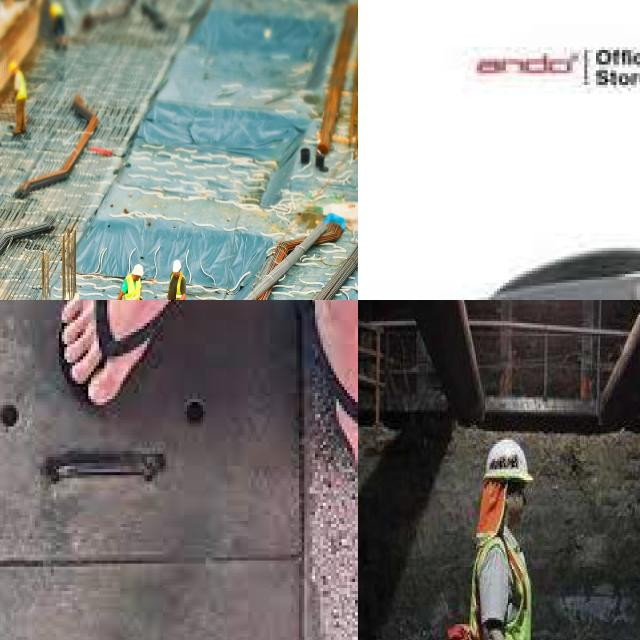Sandals: (0, 300, 358, 524), (358, 183, 640, 300)
head_helmet: (480, 438, 536, 482), (131, 264, 147, 278), (174, 259, 183, 275), (8, 58, 18, 71)
person: (464, 433, 552, 640), (5, 59, 32, 132), (118, 262, 147, 300), (49, 0, 70, 45), (168, 255, 188, 300)
vest: (473, 528, 534, 640), (123, 273, 141, 300), (15, 78, 27, 99)
